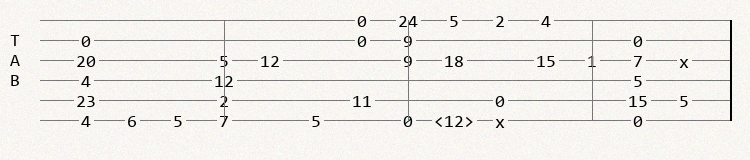0: (81, 33, 95, 48), (357, 33, 371, 48), (357, 13, 371, 28), (403, 113, 417, 128), (495, 93, 509, 108), (633, 113, 647, 128), (633, 33, 647, 48)
1: (587, 53, 601, 68)
11: (352, 93, 376, 108)
12: (214, 73, 238, 88), (260, 53, 284, 68)
15: (536, 53, 560, 68), (628, 93, 652, 108)
18: (444, 53, 468, 68)
2: (219, 93, 233, 108), (495, 13, 509, 28)
20: (76, 53, 100, 68)
23: (76, 93, 100, 108)
24: (398, 13, 422, 28)
4: (81, 113, 95, 128), (81, 73, 95, 88), (541, 13, 555, 28)
5: (173, 113, 187, 128), (219, 53, 233, 68), (311, 113, 325, 128), (449, 13, 463, 28), (633, 73, 647, 88), (679, 93, 693, 108)
6: (127, 113, 141, 128)
7: (219, 113, 233, 128), (633, 53, 647, 68)
9: (403, 33, 417, 48), (403, 53, 417, 68)
harmonic: (434, 113, 478, 128)
x: (495, 114, 509, 127), (679, 54, 693, 67)
